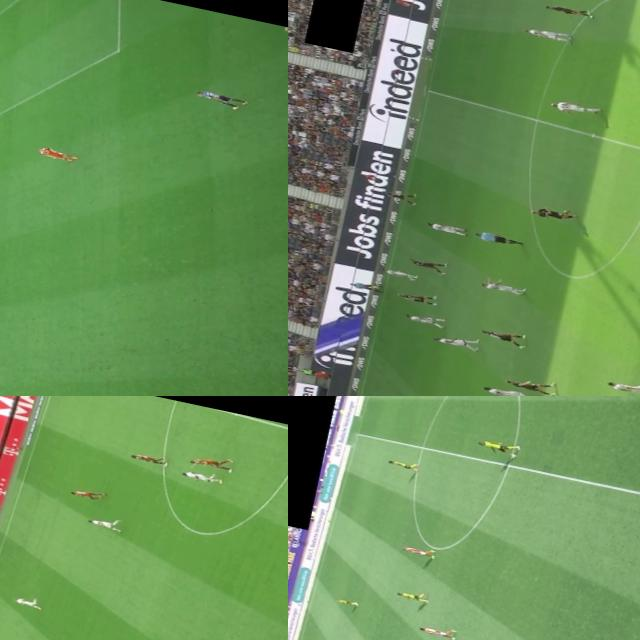player: (524, 200, 577, 224), (547, 96, 602, 119), (34, 143, 84, 167), (476, 324, 526, 346), (519, 24, 568, 46), (194, 87, 242, 109), (540, 1, 592, 20), (506, 375, 555, 395), (186, 452, 231, 472), (430, 331, 477, 350), (476, 436, 520, 456), (390, 288, 436, 307), (176, 467, 219, 486), (401, 255, 448, 272), (602, 375, 640, 396), (83, 512, 122, 532), (417, 621, 457, 640), (424, 218, 466, 236), (404, 310, 444, 328), (478, 382, 529, 396), (379, 266, 422, 282), (126, 450, 168, 466), (479, 278, 520, 294), (392, 586, 428, 603), (8, 594, 43, 610), (70, 486, 104, 502), (400, 544, 434, 560), (377, 188, 414, 202), (385, 458, 419, 471), (331, 596, 358, 606)
